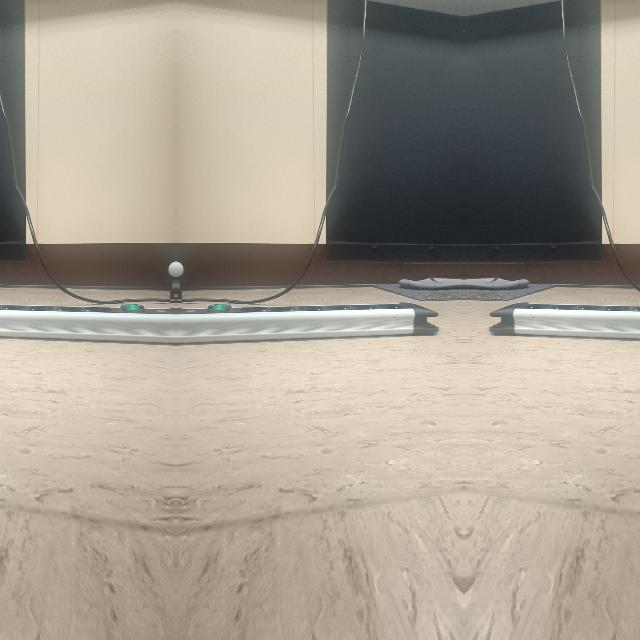obstacle: (175, 302, 437, 342), (0, 302, 175, 342), (490, 302, 640, 342)
